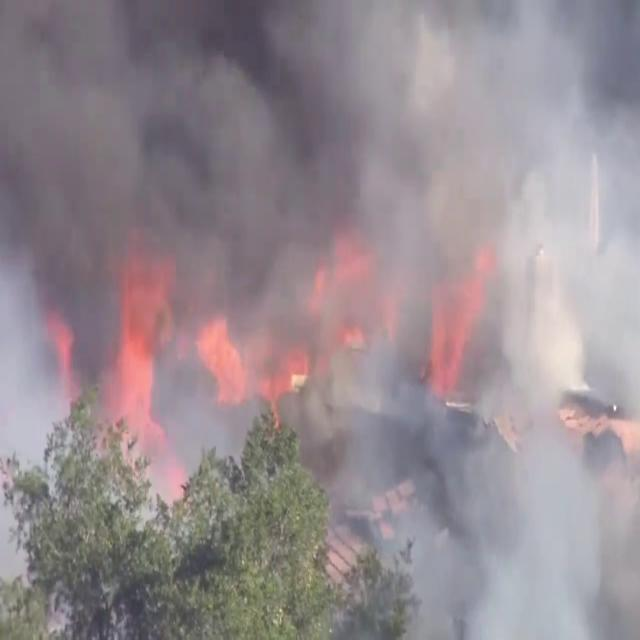Fire: (113, 262, 251, 422)
Smoke: (6, 0, 640, 628)
